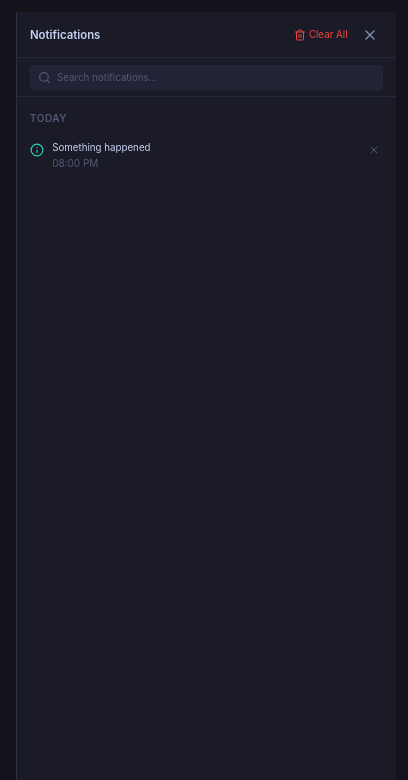
Scenario: NotificationHistoryPanel › clears all notifications
The image size is (408, 780).
Check: the text "Something happened" is shown, box [52,142,150,153]
Click the button "Clear All" at (321, 35), box [287,25,354,44]
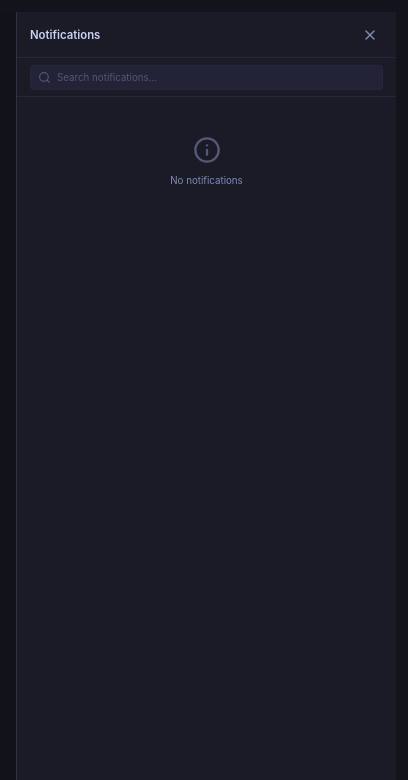
Check: the text "No notifications" is shown, box [170,174,243,187]
